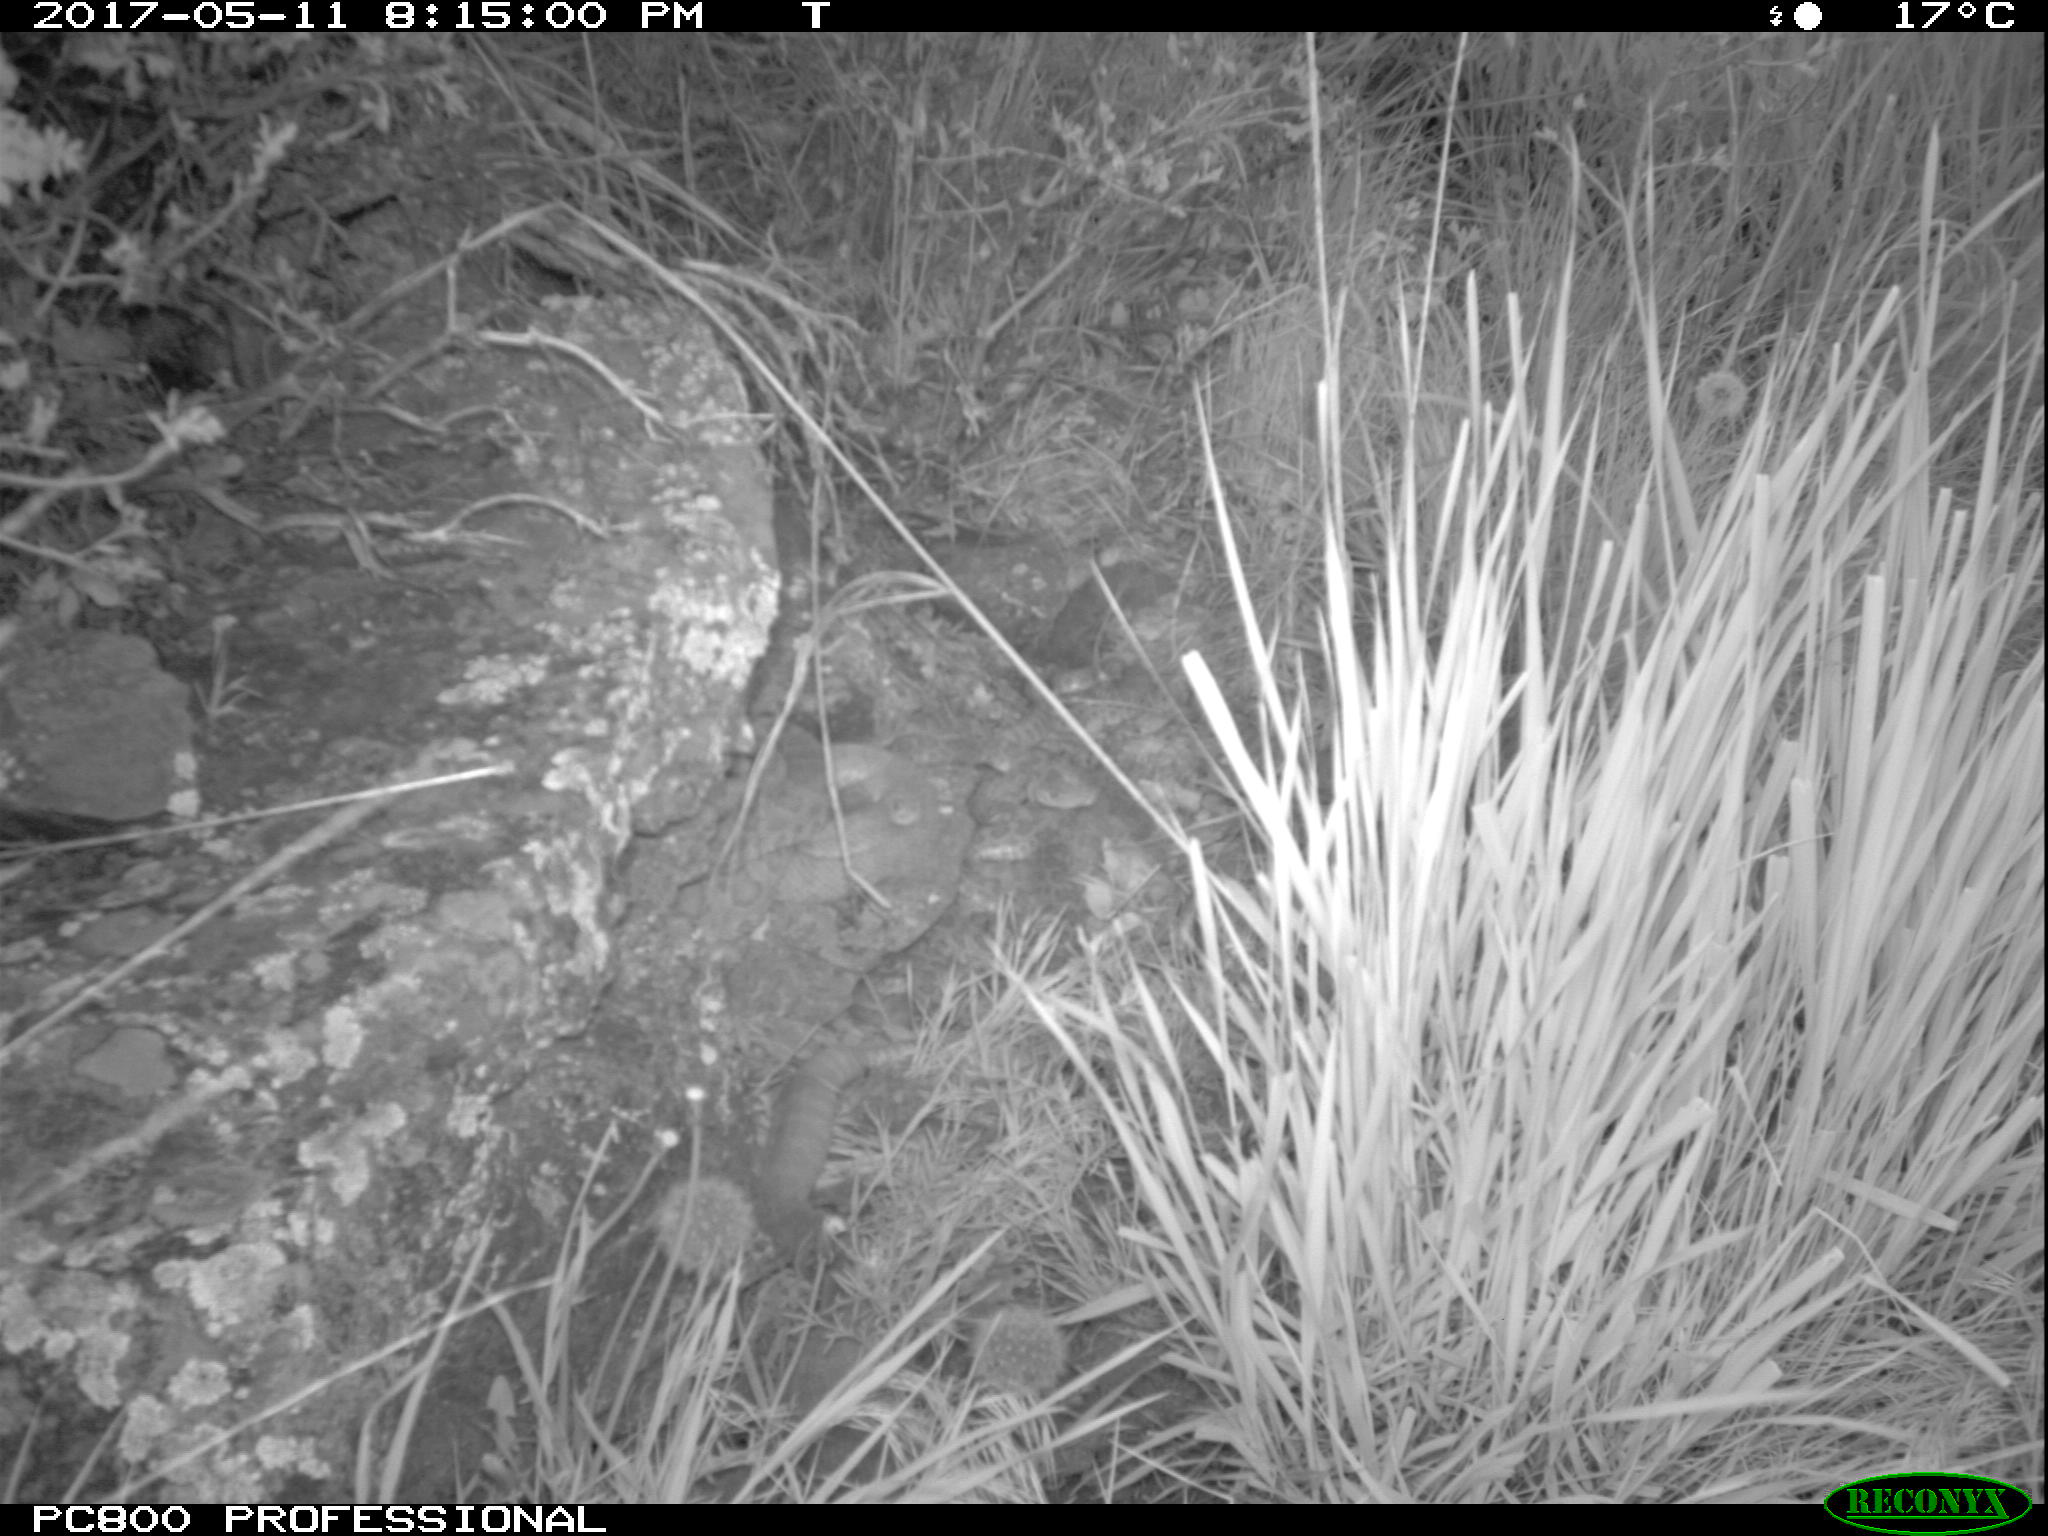snake: (748, 726, 964, 879), (751, 1031, 832, 1276)
